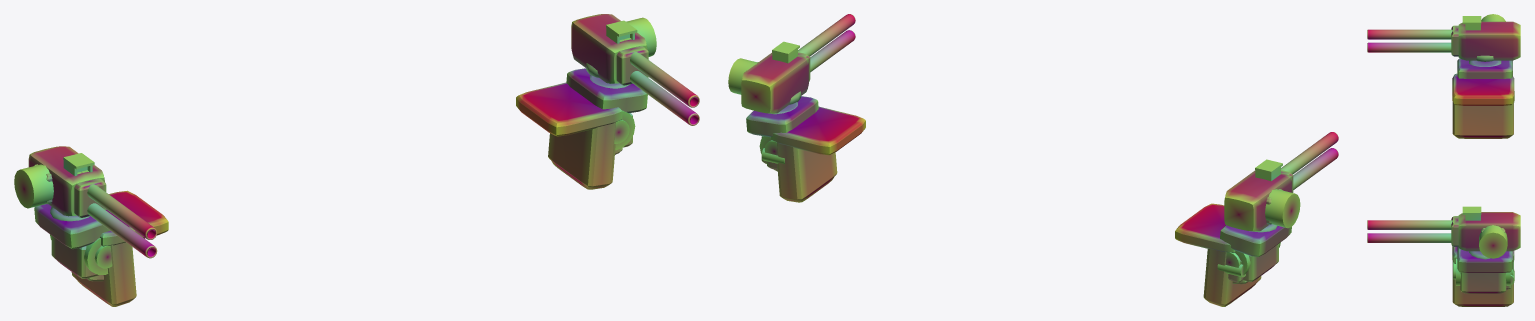
Rendered from llm_gen_shoulder_pods_095_29126d.glb.
3 views of the same model, side by side, from view 1: azimuth 30°, elevation 25°; view 2: azimuth 150°, elevation 25°; view 3: azimuth 270°, elevation 25° (orthographic). The views are drawn at different scales.
Parts seen in each view (by area): view 1: adapter_shoulder_yoke_r, adapter_shoulder_yoke_l, turret_breech_2_barrel_metal_r, turret_breech_2_barrel_metal_l, turret_adapter_base_0_adapter_dark_r, turret_adapter_base_0_adapter_dark_l, ciws_drum_mag_5_crimson_gloss_l, ciws_barrel_top_6_barrel_metal_r, ciws_barrel_top_6_barrel_metal_l, ciws_barrel_bot_7_barrel_metal_l, ciws_barrel_bot_7_barrel_metal_r, adapter_sub_ciws_shroud_dark_3_adapter_dark_r (+4 smaller); view 2: adapter_shoulder_yoke_r, adapter_shoulder_yoke_l, turret_breech_2_barrel_metal_r, turret_breech_2_barrel_metal_l, turret_adapter_base_0_adapter_dark_r, turret_adapter_base_0_adapter_dark_l, ciws_drum_mag_5_crimson_gloss_l, ciws_barrel_top_6_barrel_metal_l, ciws_barrel_top_6_barrel_metal_r, ciws_barrel_bot_7_barrel_metal_r, ciws_barrel_bot_7_barrel_metal_l, ciws_drum_mag_5_crimson_gloss_r (+2 smaller); view 3: adapter_shoulder_yoke_l, turret_breech_2_barrel_metal_l, adapter_shoulder_yoke_r, turret_breech_2_barrel_metal_r, turret_adapter_base_0_adapter_dark_r, ciws_barrel_top_6_barrel_metal_l, ciws_barrel_bot_7_barrel_metal_l, turret_adapter_base_0_adapter_dark_l, ciws_barrel_top_6_barrel_metal_r, ciws_barrel_bot_7_barrel_metal_r, ciws_drum_mag_5_crimson_gloss_r, servo_1_servo_accent_l (+5 smaller).
Boxes of the visible parts, x1,y1,x2,y2 form: adapter_shoulder_yoke_r: (516,82,635,189); adapter_shoulder_yoke_l: (50,190,168,306); turret_breech_2_barrel_metal_r: (571,14,647,83); turret_breech_2_barrel_metal_l: (28,146,104,216); turret_adapter_base_0_adapter_dark_r: (566,68,647,113); turret_adapter_base_0_adapter_dark_l: (34,204,110,249); ciws_drum_mag_5_crimson_gloss_l: (14,164,53,208); ciws_barrel_top_6_barrel_metal_r: (630,52,699,107); ciws_barrel_top_6_barrel_metal_l: (87,184,157,239); ciws_barrel_bot_7_barrel_metal_l: (87,203,157,258); ciws_barrel_bot_7_barrel_metal_r: (630,71,699,125); adapter_sub_ciws_shroud_dark_3_adapter_dark_r: (616,45,648,85); adapter_shoulder_yoke_r: (759,106,865,202); adapter_shoulder_yoke_l: (1175,203,1280,306); turret_breech_2_barrel_metal_r: (741,52,809,113); turret_breech_2_barrel_metal_l: (1224,170,1292,231); turret_adapter_base_0_adapter_dark_r: (746,96,818,137); turret_adapter_base_0_adapter_dark_l: (1220,225,1291,257); ciws_drum_mag_5_crimson_gloss_l: (1265,189,1300,228); ciws_barrel_top_6_barrel_metal_l: (1281,132,1338,174); ciws_barrel_top_6_barrel_metal_r: (798,14,855,56); ciws_barrel_bot_7_barrel_metal_r: (810,30,855,72); ciws_barrel_bot_7_barrel_metal_l: (1293,148,1338,189); ciws_drum_mag_5_crimson_gloss_r: (728,58,757,94); adapter_shoulder_yoke_l: (1452,73,1514,138); turret_breech_2_barrel_metal_l: (1458,21,1520,60); adapter_shoulder_yoke_r: (1452,246,1514,306); turret_breech_2_barrel_metal_r: (1458,212,1520,251); turret_adapter_base_0_adapter_dark_r: (1457,247,1512,272); ciws_barrel_top_6_barrel_metal_l: (1367,29,1452,39); ciws_barrel_bot_7_barrel_metal_l: (1367,42,1451,52); turret_adapter_base_0_adapter_dark_l: (1457,58,1512,78); ciws_barrel_top_6_barrel_metal_r: (1367,220,1452,229); ciws_barrel_bot_7_barrel_metal_r: (1367,233,1451,242); ciws_drum_mag_5_crimson_gloss_r: (1479,225,1507,258); servo_1_servo_accent_l: (1469,55,1501,66).
Bounding box in the file's own units: 108 × 24.34 × 32.05.
